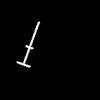double_crochet: (17, 22, 39, 66)
